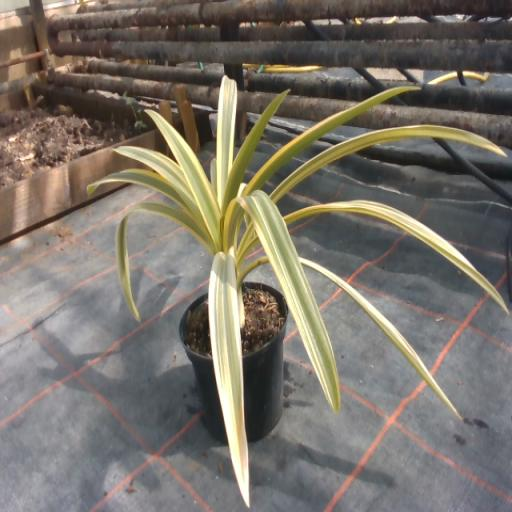Agapanthus-praecox: (299, 257, 461, 418), (286, 201, 507, 311), (241, 191, 340, 411), (245, 87, 412, 194), (270, 125, 488, 199), (116, 203, 201, 320), (209, 249, 248, 503), (150, 111, 219, 241), (228, 91, 289, 198), (122, 147, 191, 206), (87, 170, 182, 202), (215, 76, 236, 206), (244, 258, 268, 277)
